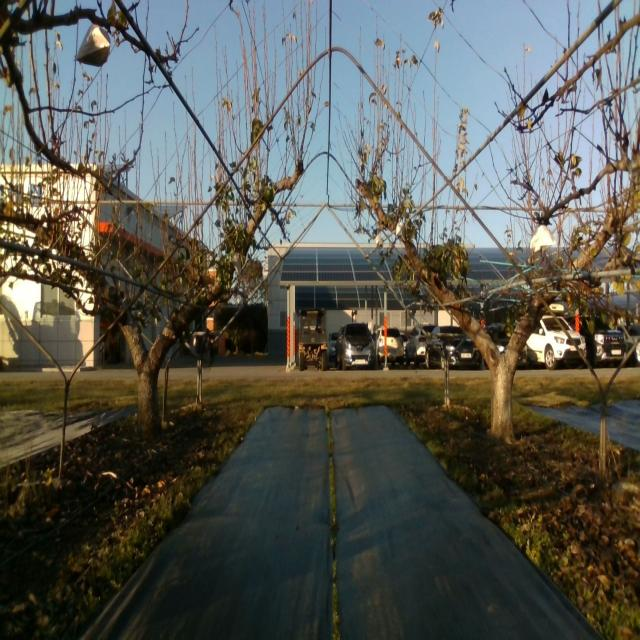pearbags: (74, 23, 110, 67), (530, 225, 556, 252)
